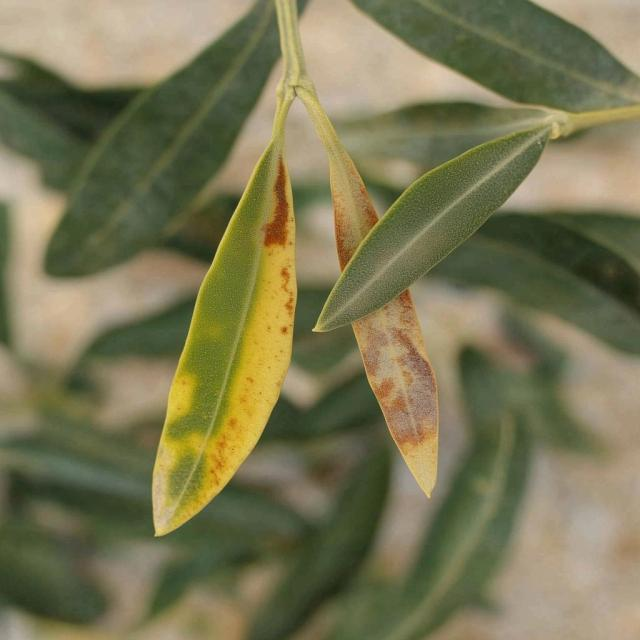Peacock Eye: (152, 146, 296, 536), (352, 293, 438, 496)
